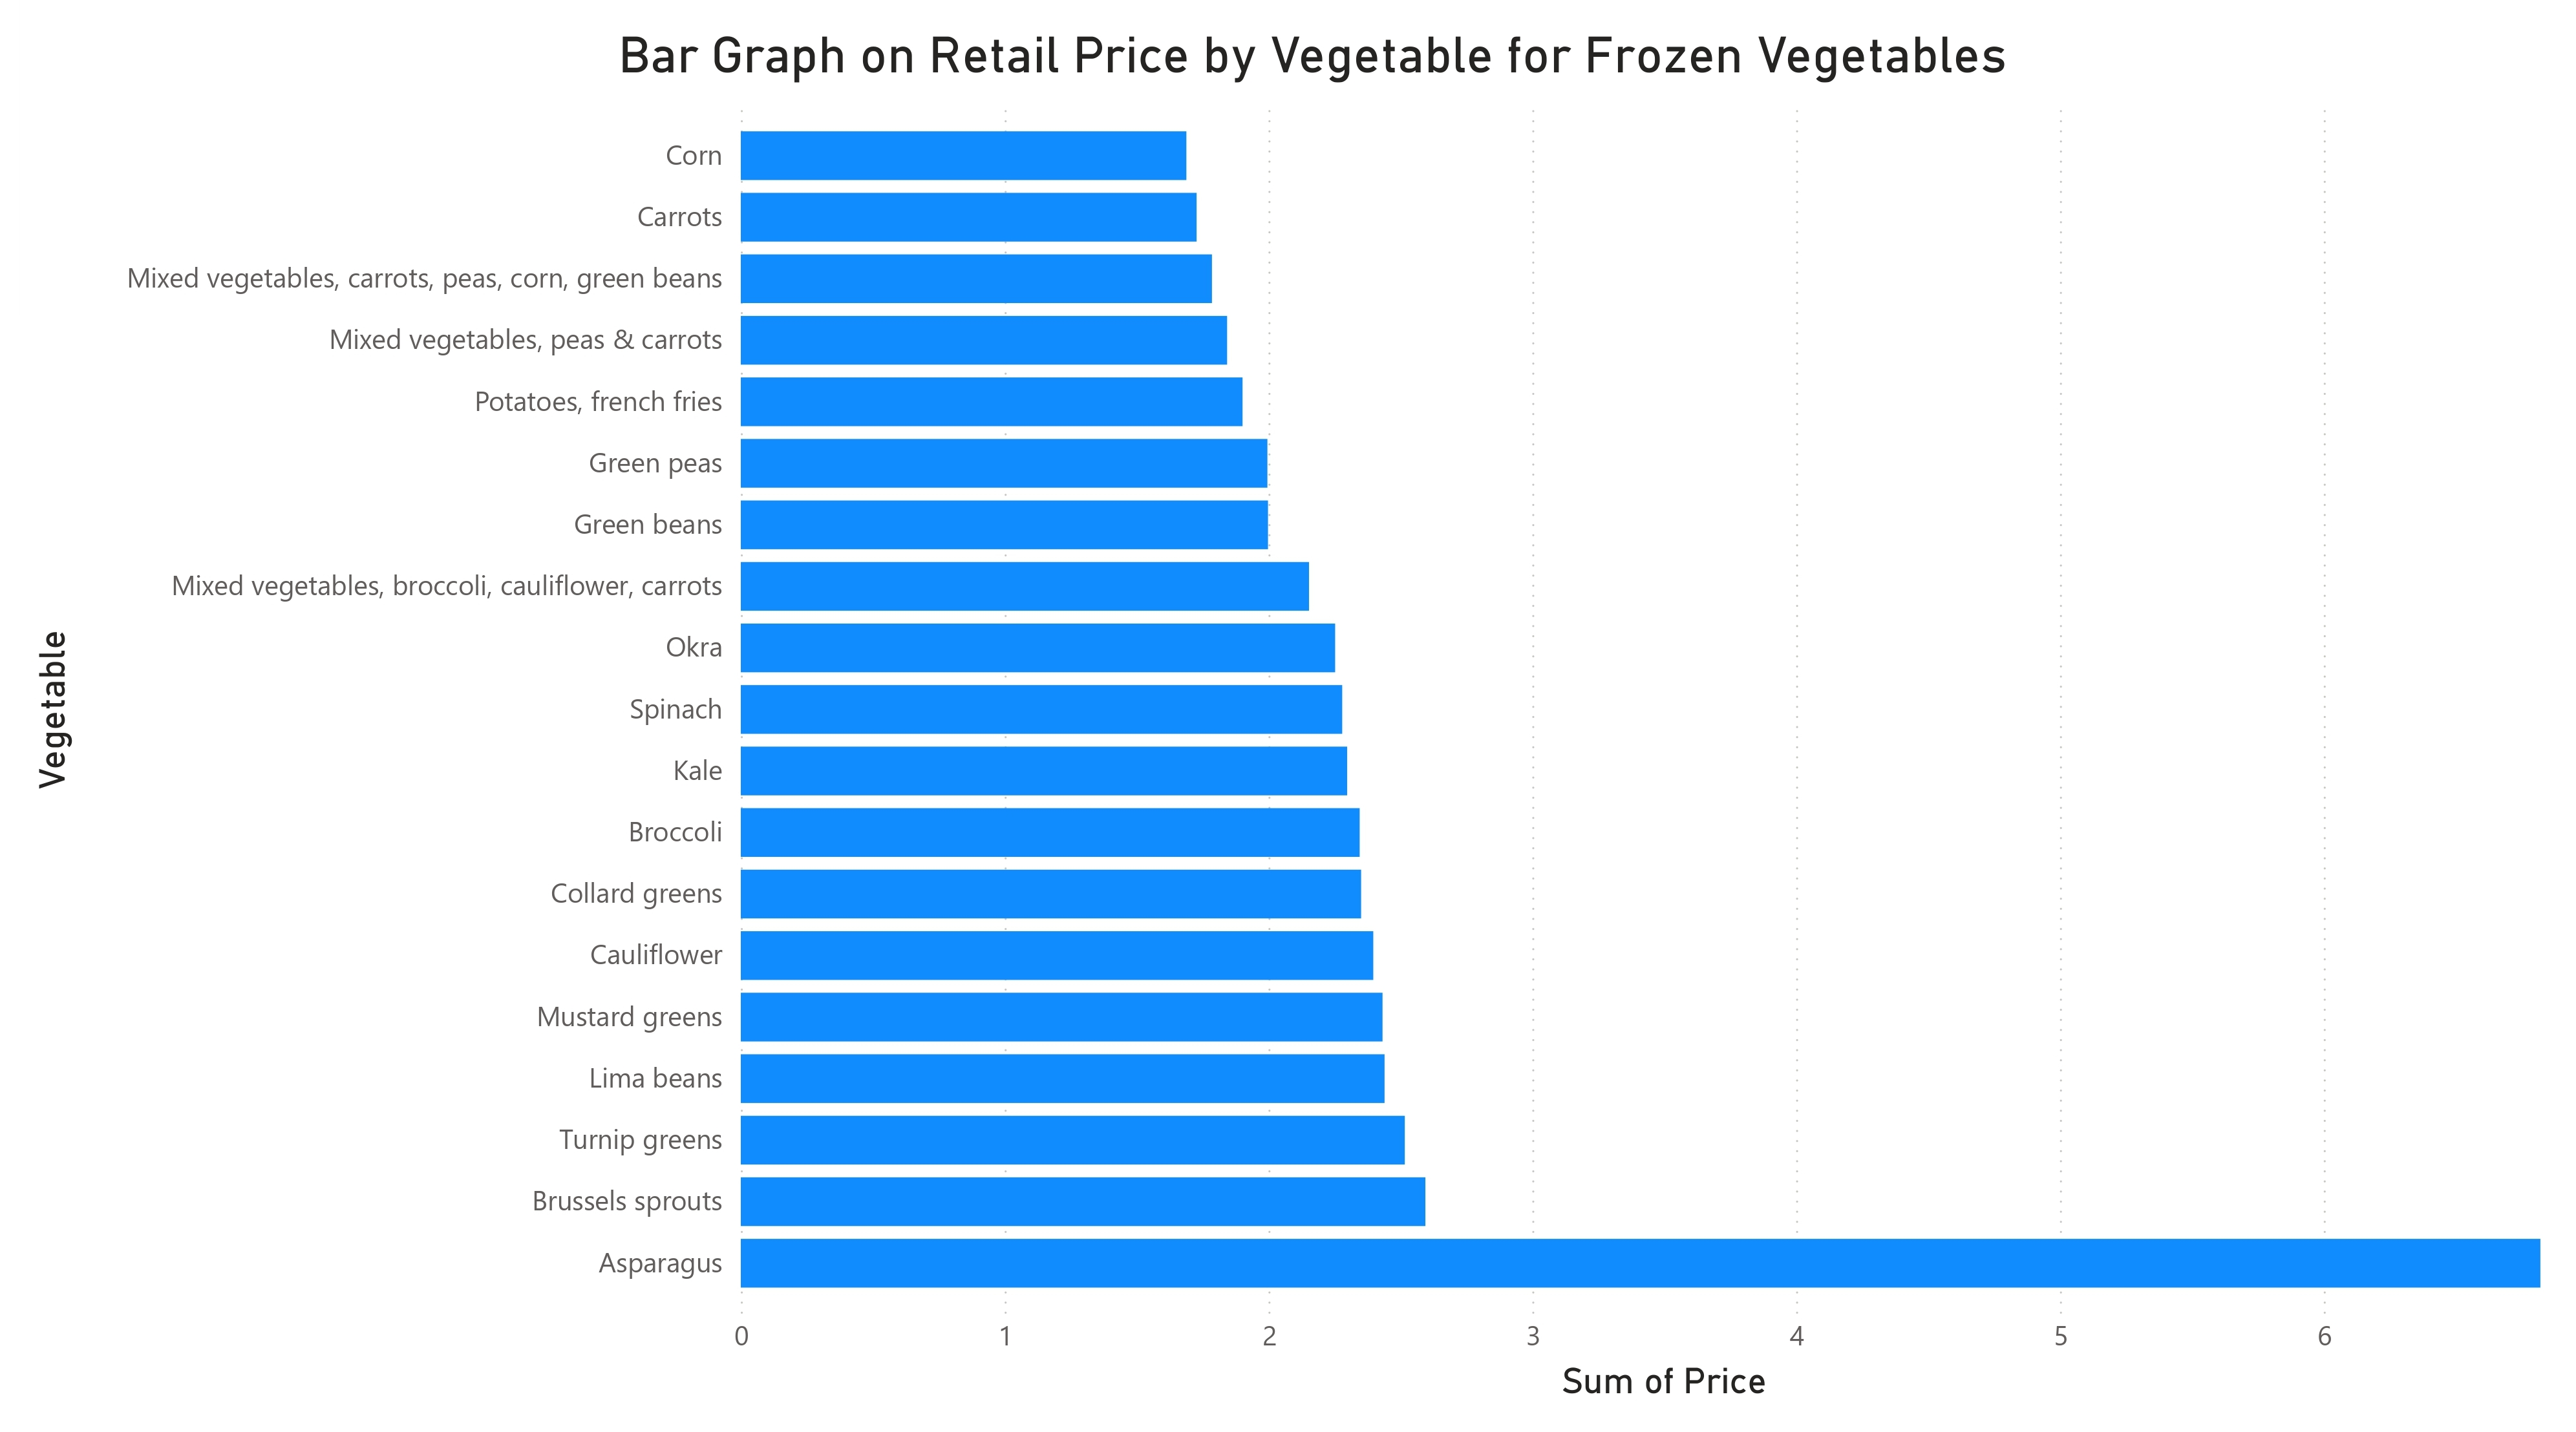

Layout of this report page (visuals, bound fields, positions):
{"tool":"powerbi","page":{"name":"Frozen Vegetables","canvas":[1280,720],"ordinal":2},"visuals":[{"type":"textbox","box":[167.4,30.2,942.7,71.4],"z":0},{"type":"barChart","fields":{"Category":["frozen.Vegetable"],"Y":["Sum(frozen.Price)"]},"box":[322.8,110.1,629.8,593.1],"z":1000}]}

Visuals, with their boxes in screenshot pixels (x1, y1, x2, y2), scaled from the page's 1280x720 canvas onto the 2576x1432 screenshot:
textbox: <box>337,60,2234,202</box>
barChart - frozen.Vegetable x Sum(frozen.Price): <box>650,219,1917,1398</box>
